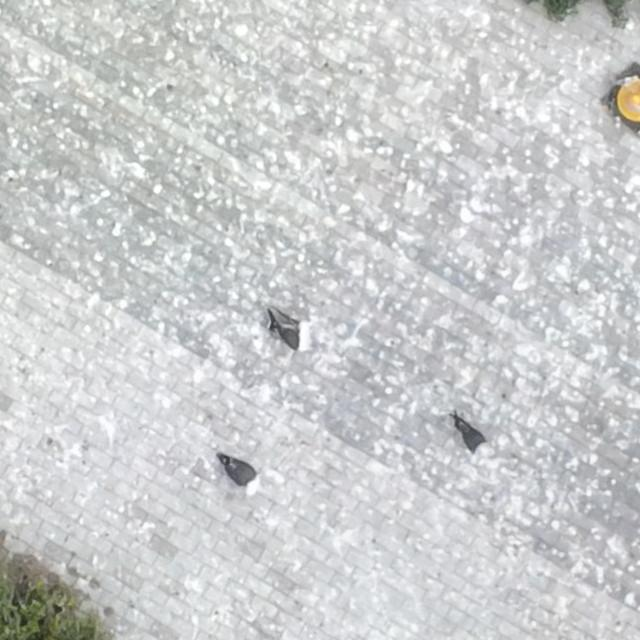umineko: (453, 417, 494, 457), (272, 313, 313, 353), (219, 457, 259, 496)
